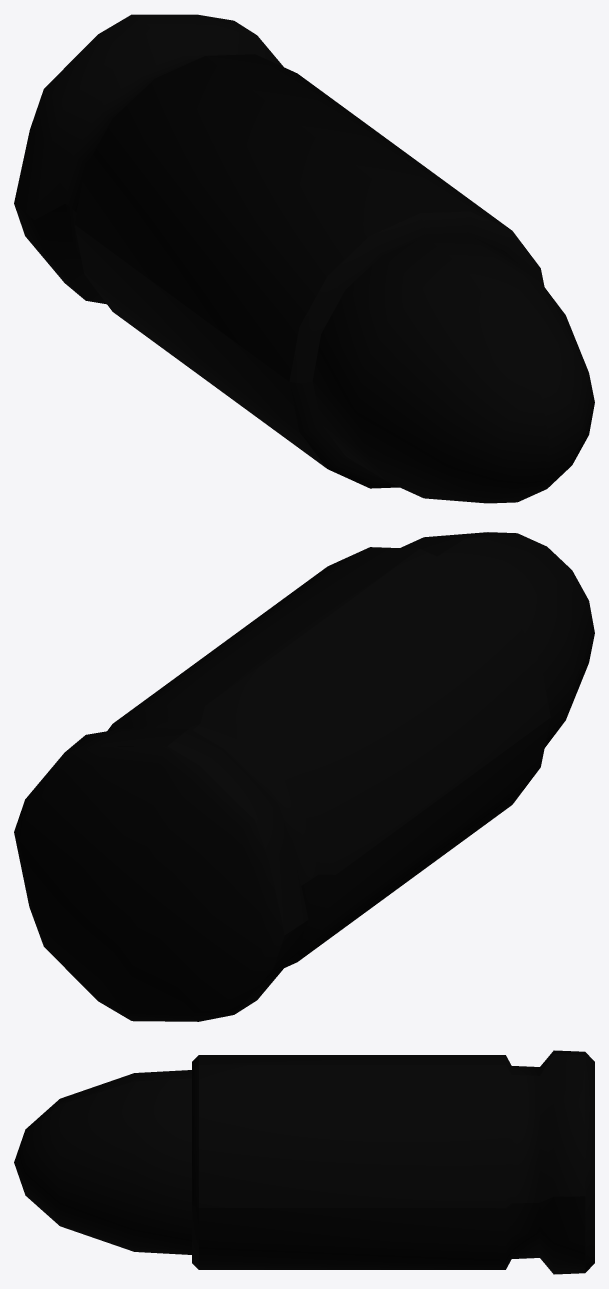
The model's file is bullet.fbx.
3 renders of one model, top to bottom at view 1: azimuth 30°, elevation 25°; view 2: azimuth 150°, elevation 25°; view 3: azimuth 270°, elevation 25°, orthographic. The views are drawn at different scales.
Visible parts, largest first — view 1: node_id31; view 2: node_id31; view 3: node_id31.
Boxes of the visible parts, x1,y1,x2,y2 form: node_id31: [14, 14, 594, 503]; node_id31: [14, 532, 594, 1021]; node_id31: [14, 1050, 594, 1274].
Size of the model in its own units: 0.512 by 0.512 by 1.32.
Materials: 1 (1 with a texture image).
